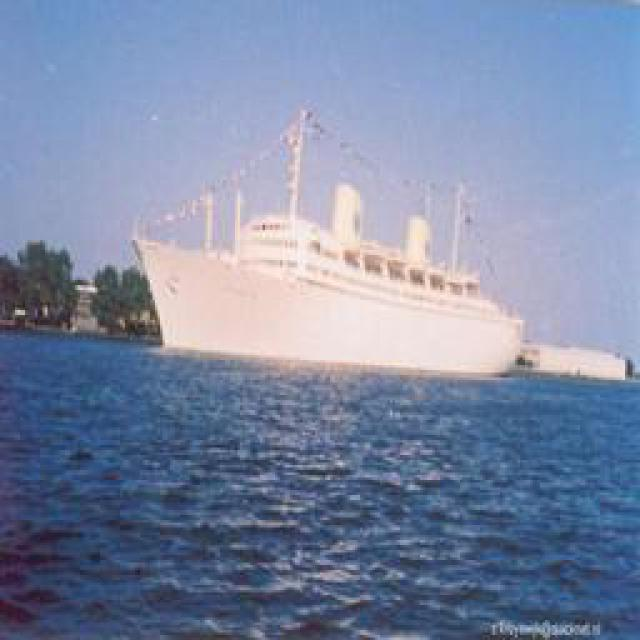Ship: (123, 181, 521, 376)
